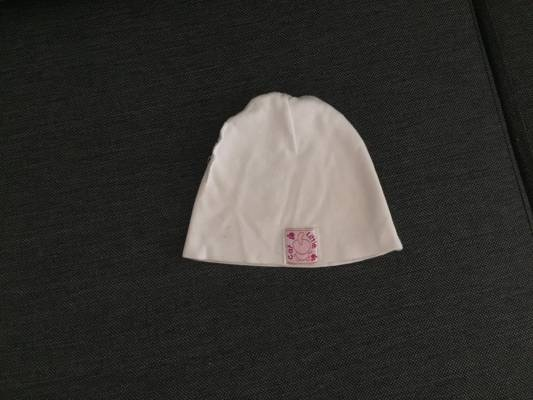Hat: (183, 61, 412, 280)
